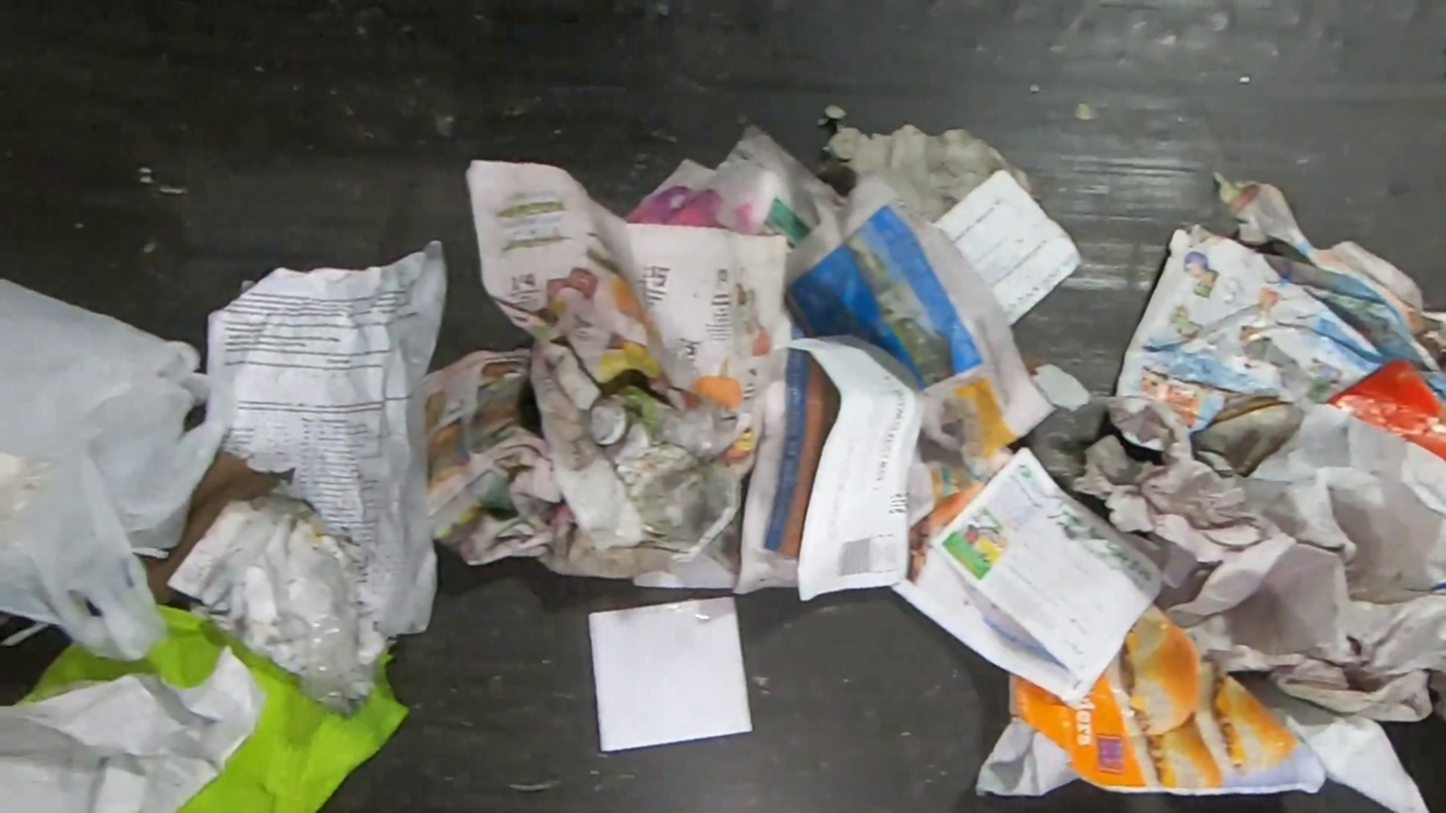cardboard: (1322, 354, 1446, 464)
plastic: (973, 599, 1432, 813), (0, 275, 240, 664), (304, 609, 361, 717)
